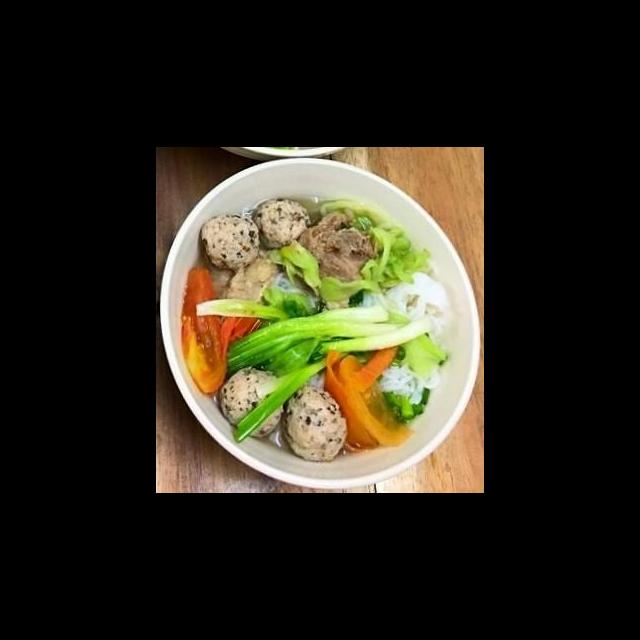bun: (308, 358, 371, 459), (235, 377, 287, 451)
bun moc: (168, 166, 484, 493)
thit heo: (323, 278, 426, 383), (314, 210, 384, 276)
vien moc: (182, 278, 260, 352), (206, 208, 278, 282), (364, 189, 422, 259), (383, 246, 438, 312)
